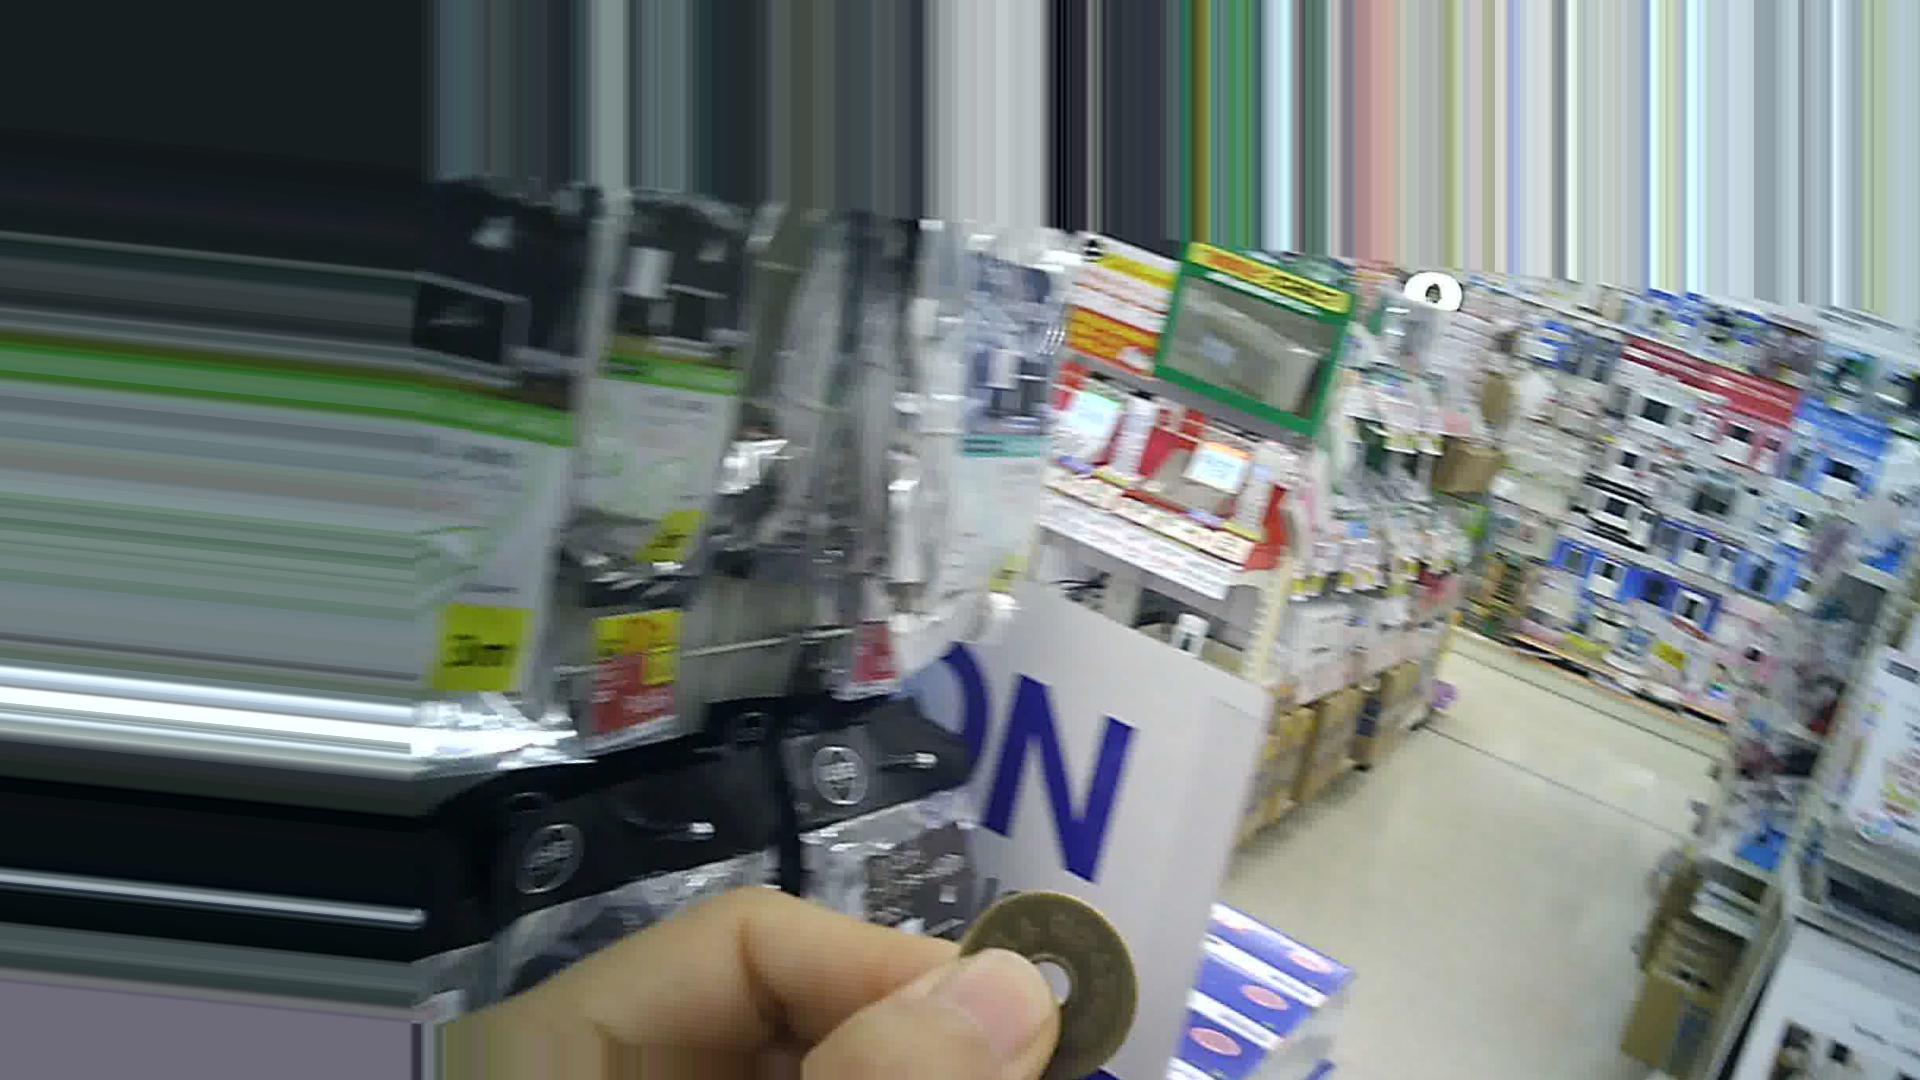5 Yen: (924, 893, 1143, 1076)
